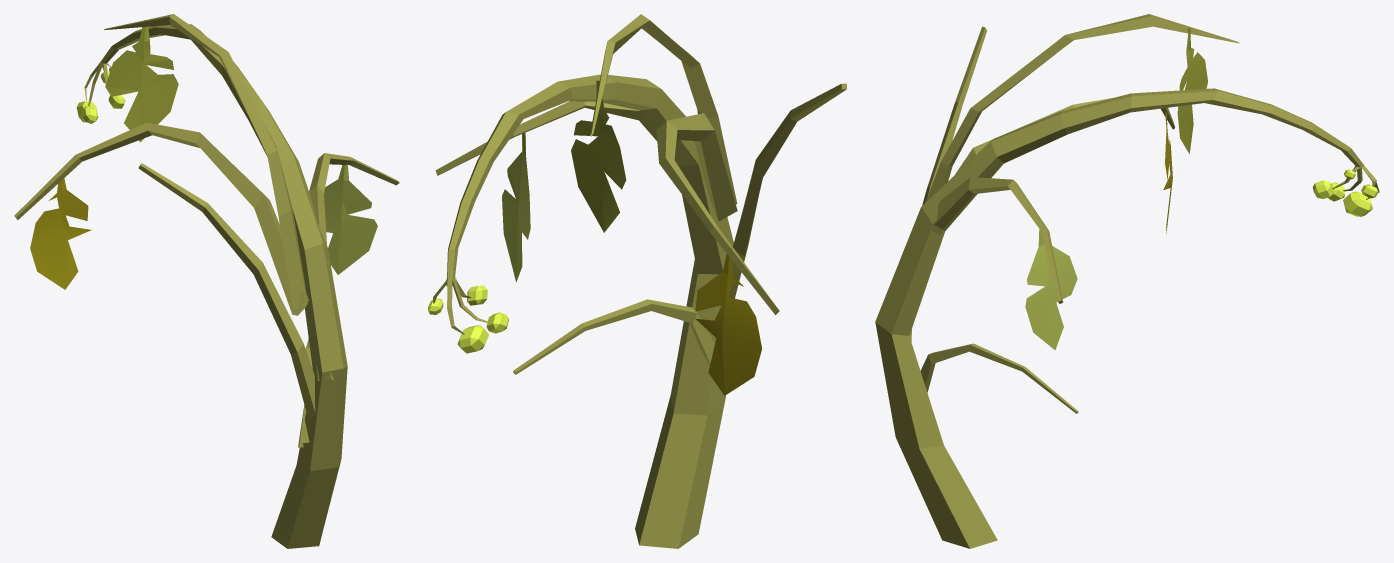
The model's file is mesh_deadbush.fbx.
3 views of the same model, side by side, from view 1: azimuth 30°, elevation 25°; view 2: azimuth 150°, elevation 25°; view 3: azimuth 270°, elevation 25° (orthographic). The views are drawn at different scales.
Visible parts, largest first — view 1: mesh_deadbush; view 2: mesh_deadbush; view 3: mesh_deadbush.
Part boxes in pixels (x1,y1,x2,y2): mesh_deadbush: (14, 14, 399, 548); mesh_deadbush: (428, 14, 846, 548); mesh_deadbush: (875, 14, 1379, 548).
Size of the model in its own units: 31.34 by 42.62 by 38.97.
